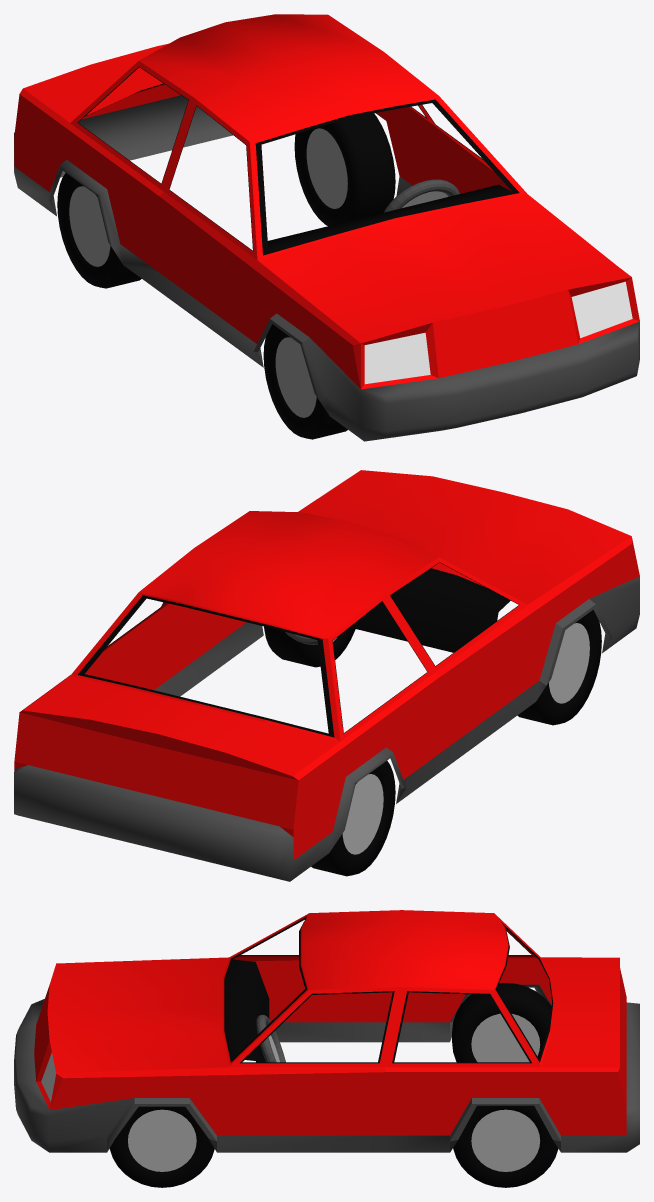
File: car.glb
3 renders of one model, top to bottom at view 1: azimuth 30°, elevation 25°; view 2: azimuth 150°, elevation 25°; view 3: azimuth 270°, elevation 25°, orthographic. The views are drawn at different scales.
Visible parts, largest first — view 1: chassis, wheel_rl, wheel_rr, wheel_fr, wheel_rl_steer, steering; view 2: chassis, wheel_rr, wheel_fr, wheel_fl; view 3: chassis, wheel_rl, wheel_fl, wheel_rr, wheel_rr_steer, steering.
Part boxes in pixels (x1,y1,x2,y2): chassis: (14,14,639,441); wheel_rl: (294,113,395,226); wheel_rr: (57,173,141,288); wheel_fr: (263,324,347,439); wheel_rl_steer: (306,128,347,208); steering: (384,179,459,212); chassis: (14,470,639,881); wheel_rr: (311,761,395,876); wheel_fr: (517,609,601,725); wheel_fl: (264,626,355,667); chassis: (14,910,639,1152); wheel_rl: (453,1105,558,1187); wheel_fl: (109,1106,214,1187); wheel_rr: (452,983,551,1062); wheel_rr_steer: (471,1013,540,1062); steering: (256,1014,285,1062).
Size of the model in its own units: 2.1 by 1.59 by 4.66.
